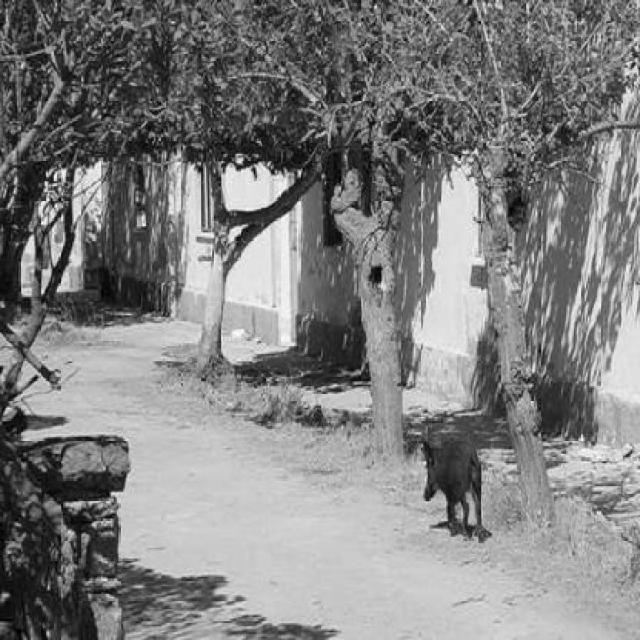Boar: (392, 422, 505, 566)
